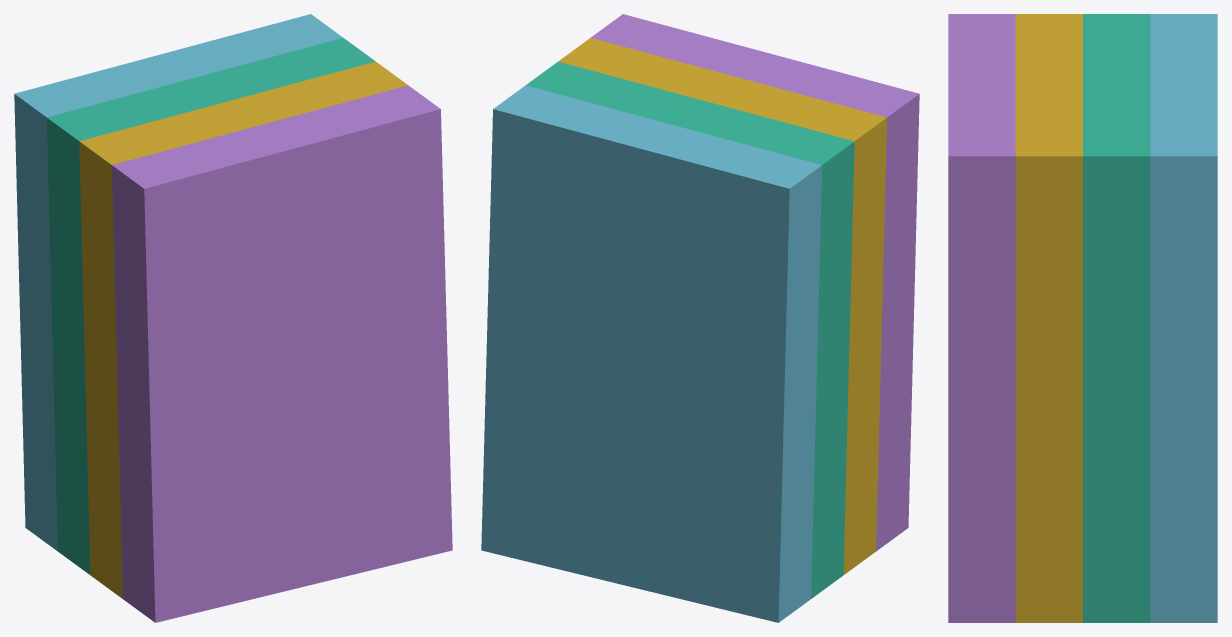
Rendered from B01_floors.glb.
The picture shows the model from 3 angles, left to right: view 1: azimuth 30°, elevation 25°; view 2: azimuth 150°, elevation 25°; view 3: azimuth 270°, elevation 25°; orthographic projection. The views are drawn at different scales.
Visible parts, largest first — view 1: B01-F04, B01-F02, B01-F03, B01-F01; view 2: B01-F01, B01-F03, B01-F02, B01-F04; view 3: B01-F01, B01-F02, B01-F03, B01-F04.
Part boxes in pixels (x1,y1,x2,y2): B01-F04: (111, 85, 452, 622); B01-F02: (47, 38, 375, 574); B01-F03: (79, 61, 407, 598); B01-F01: (14, 14, 342, 551); B01-F01: (481, 85, 822, 622); B01-F03: (558, 38, 886, 574); B01-F02: (526, 61, 854, 598); B01-F04: (591, 14, 919, 551); B01-F01: (1150, 14, 1217, 622); B01-F02: (1083, 14, 1150, 622); B01-F03: (1015, 14, 1082, 622); B01-F04: (948, 14, 1015, 622).
Bounding box in the file's own units: 16.44 × 22.62 × 12.
